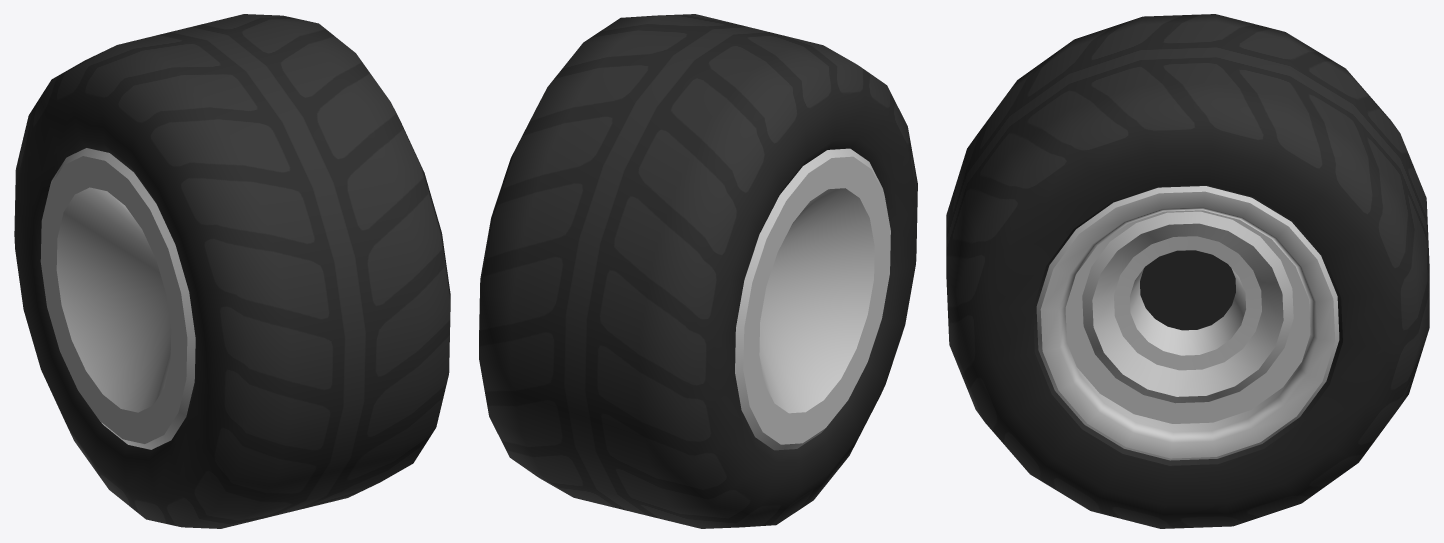
File: Car_01_Wheel_BL.fbx
3 views of the same model, side by side, from view 1: azimuth 30°, elevation 25°; view 2: azimuth 150°, elevation 25°; view 3: azimuth 270°, elevation 25° (orthographic). The views are drawn at different scales.
Parts seen in each view (by area): view 1: Car_01_Wheel_BL; view 2: Car_01_Wheel_BL; view 3: Car_01_Wheel_BL.
Boxes of the visible parts, x1,y1,x2,y2 form: Car_01_Wheel_BL: [14, 14, 450, 528]; Car_01_Wheel_BL: [479, 14, 917, 528]; Car_01_Wheel_BL: [946, 14, 1429, 528].
Size of the model in its own units: 52.74 by 95 by 95.
